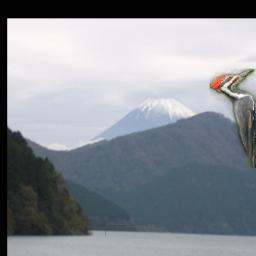Woodpecker: (211, 70, 256, 169)
